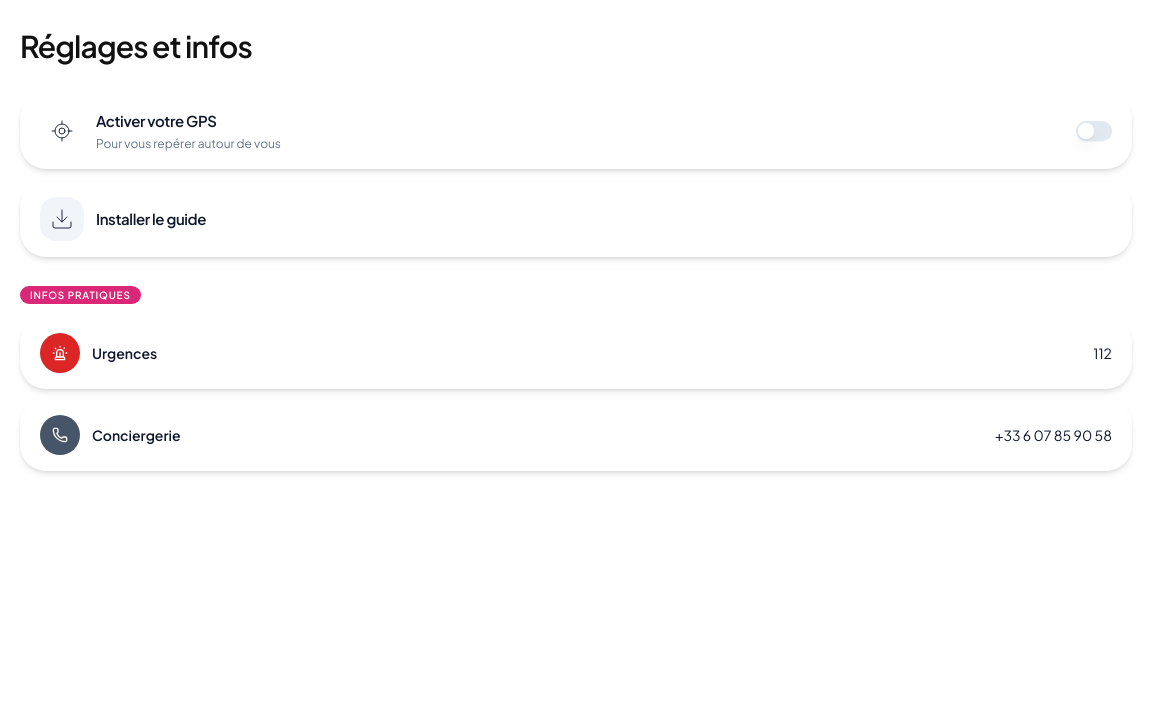
it: AC-01-04: explique les 3 étapes iOS dans un modal accessible
Click the button "Installer le guide" at (62, 219), box [20, 181, 1132, 257]
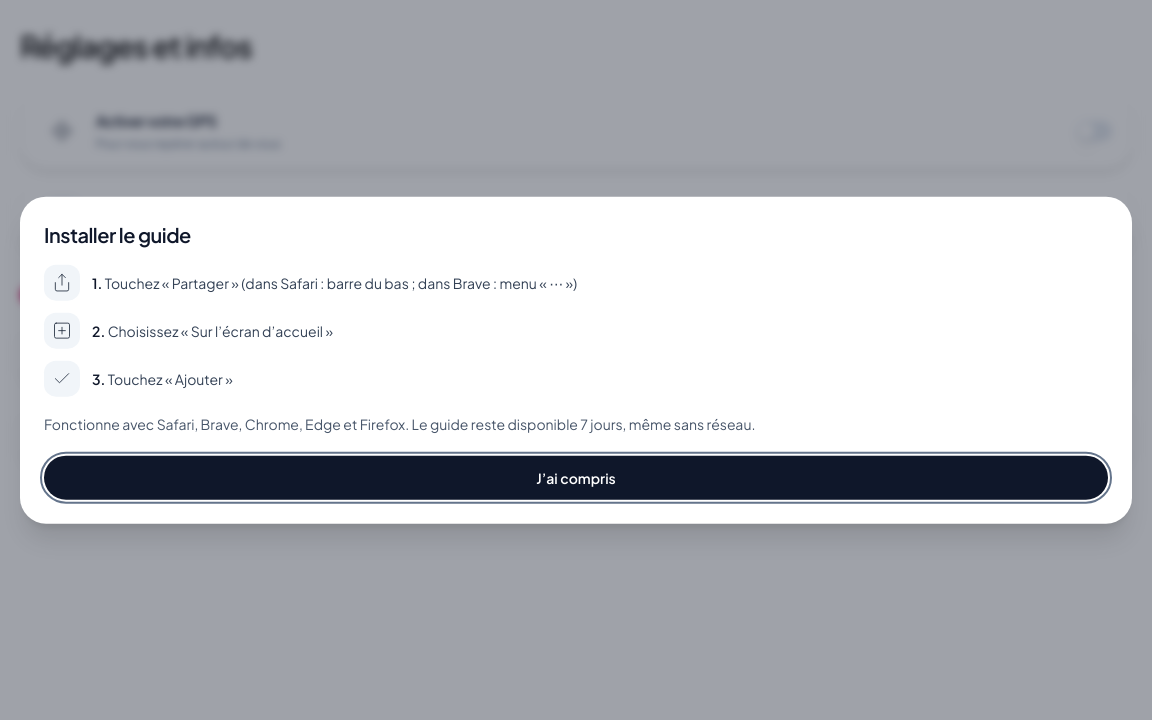
Expected: the number of list items is 3, [44, 265, 577, 301]; [44, 313, 333, 349]; [44, 361, 233, 397]
Expected: the 1st list item shows "Touchez « Partager » (dans Safari : barre du bas ; dans Brave : menu « ⋯ »)", [105, 274, 577, 292]
Expected: the list item "2. Choisissez « Sur l’écran d’accueil »" is shown, [44, 313, 333, 349]
Click the button "J’ai compris" at (576, 477), box [44, 455, 1108, 499]
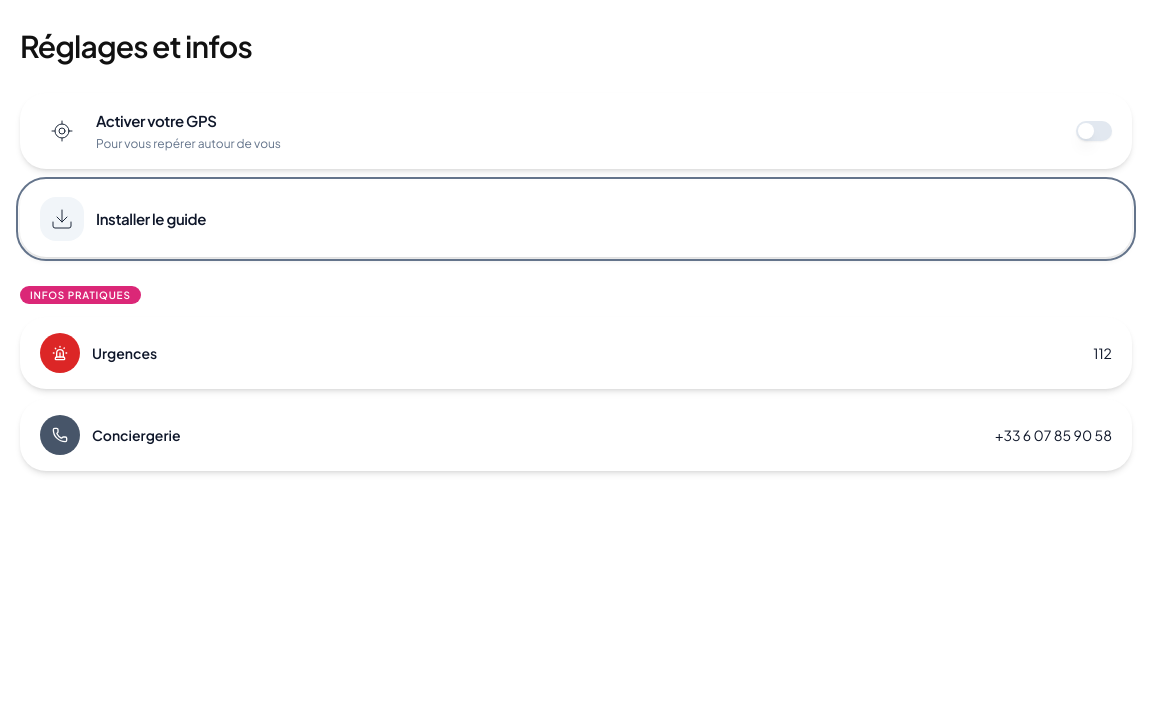
Expected: the dialog is gone
